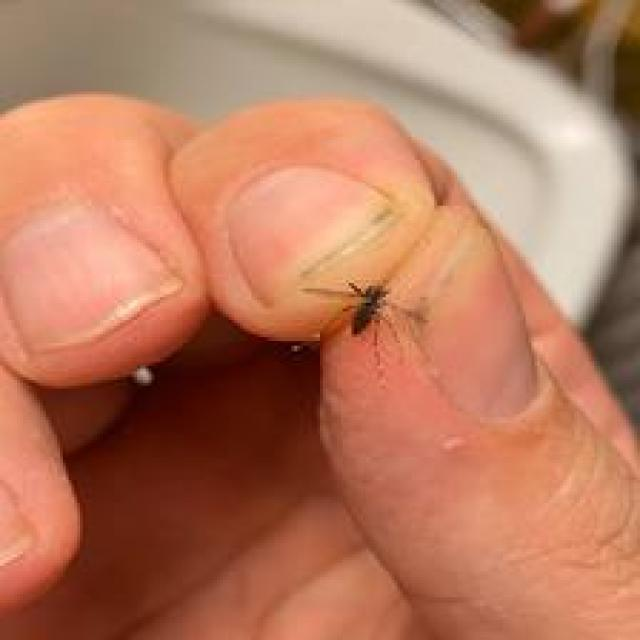Aedes albopictus: (299, 276, 430, 367)
